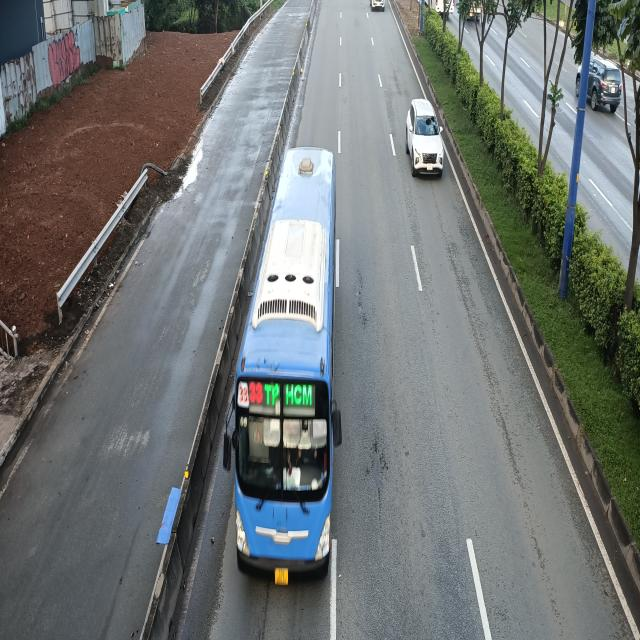car: (407, 98, 445, 179)
coach: (223, 151, 340, 580)
